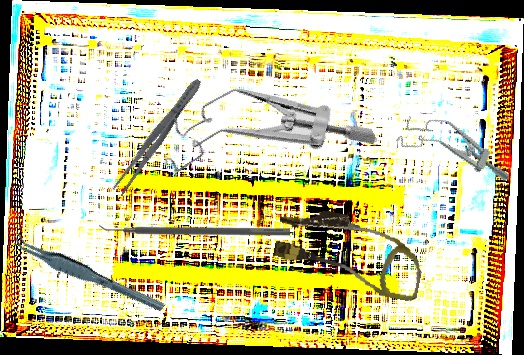Cannula: (269, 202, 430, 303)
Dressing Forceps: (109, 74, 207, 199)
Spatula Surgical: (99, 220, 290, 236)
Speculum: (146, 35, 379, 237), (394, 105, 520, 190)
Tissue Forceps: (9, 218, 166, 329)
